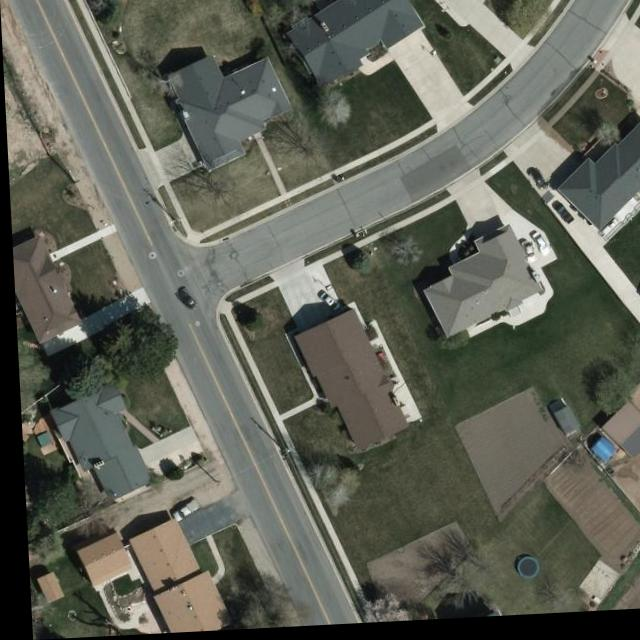vehicle: (164, 501, 197, 524), (315, 294, 339, 318), (525, 173, 549, 197), (516, 245, 538, 271), (528, 238, 550, 263), (173, 289, 194, 315), (552, 210, 573, 231)
